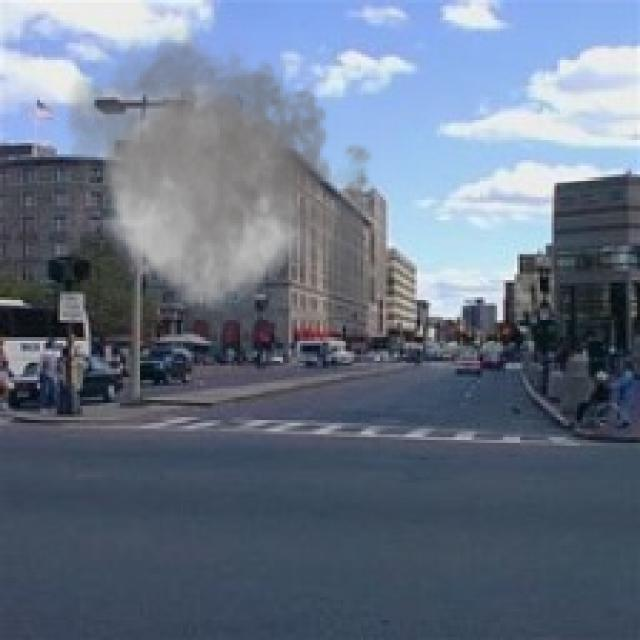Smoke: (52, 14, 394, 372)
